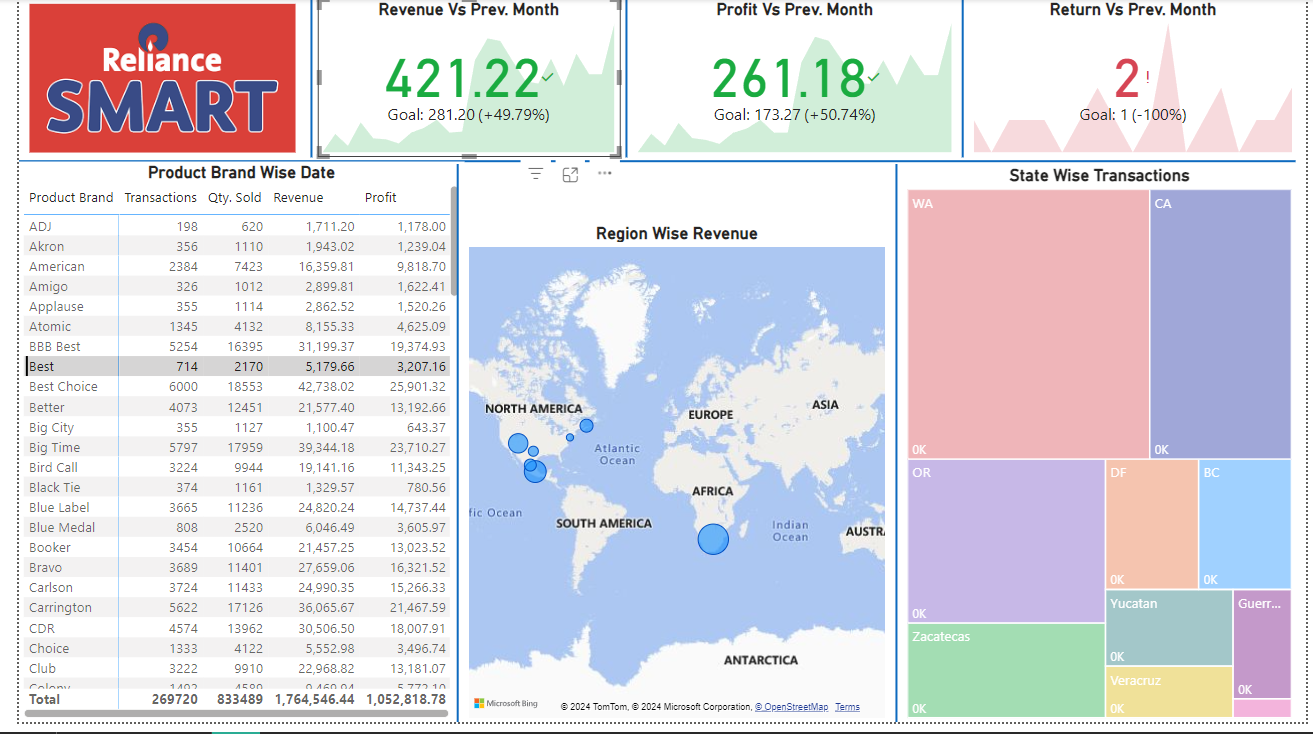

The page's visual inventory and layout, read from the dashboard file:
{"tool":"powerbi","page":{"name":"Primary Report","canvas":[1280,720],"ordinal":0},"visuals":[{"type":"image","box":[0,0,284.9,158],"z":0},{"type":"shape","box":[0,157.8,1270.7,6.9],"z":1000},{"type":"pivotTable","title":"Product Brand Wise Date","fields":{"Rows":["d_Products.product_brand"],"Values":["Measures (2).M_Total_Transactions","Measures (2).M_Quantity_Sold","Measures (2).M_Total_Revenue","Measures (2).M_Total_Profit"]},"box":[0,161.7,442.8,558.5],"z":2000},{"type":"shape","box":[430.9,164.7,12.3,555.7],"z":3000},{"type":"map","title":"Region Wise Revenue","fields":{"Category":["d_Regions.sales_region"],"Size":["Measures (2).M_Total_Revenue"]},"box":[443.2,222.3,424,498.1],"z":4000},{"type":"shape","box":[867.2,164.7,12.3,555.7],"z":5000},{"type":"treemap","title":"State Wise Transactions","fields":{"Group":["d_Stores.store_state"],"Values":["Measures (2).M_Total_Transactions"]},"box":[879,165,392,555],"z":6000},{"type":"shape","box":[285.4,0,12.3,157.8],"z":7000},{"type":"kpi","title":"Revenue Vs Prev. Month","fields":{"Indicator":["Measures (2).M_Total_Revenue"],"TrendLine":["d_Calendar.Start of Month"],"Goal":["Measures (2).M_Previous_Month_Revenue"]},"box":[297.8,0,300.5,157.8],"z":8000},{"type":"shape","box":[598.3,0,12.3,157.8],"z":9000},{"type":"kpi","title":"Profit Vs Prev. Month","fields":{"TrendLine":["d_Calendar.Start of Month"],"Goal":["Measures (2).M_Previous_Month_Profit"],"Indicator":["Measures (2).M_Total_Profit"]},"box":[610.6,0,322.5,157.8],"z":10000},{"type":"shape","box":[933.1,0,12.3,157.8],"z":11000},{"type":"kpi","title":"Return Vs Prev. Month","fields":{"TrendLine":["d_Calendar.Start of Month"],"Goal":["Measures (2).M_Previous_Month_Return"],"Indicator":["Measures (2).M_Total_Returns"]},"box":[945.5,0,326.6,157.8],"z":12000}]}

Visuals, with their boxes in screenshot pixels (x1, y1, x2, y2), scaled from the page's 1280x720 canvas onto the 1313x734 screenshot:
image: x1=0 y1=0 x2=292 y2=161
shape: x1=0 y1=161 x2=1303 y2=168
"Product Brand Wise Date" pivotTable: x1=0 y1=165 x2=454 y2=733
shape: x1=442 y1=168 x2=455 y2=733
"Region Wise Revenue" map: x1=455 y1=227 x2=890 y2=733
shape: x1=890 y1=168 x2=902 y2=733
"State Wise Transactions" treemap: x1=902 y1=168 x2=1304 y2=733
shape: x1=293 y1=0 x2=305 y2=161
"Revenue Vs Prev. Month" kpi: x1=305 y1=0 x2=614 y2=161
shape: x1=614 y1=0 x2=626 y2=161
"Profit Vs Prev. Month" kpi: x1=626 y1=0 x2=957 y2=161
shape: x1=957 y1=0 x2=970 y2=161
"Return Vs Prev. Month" kpi: x1=970 y1=0 x2=1305 y2=161
